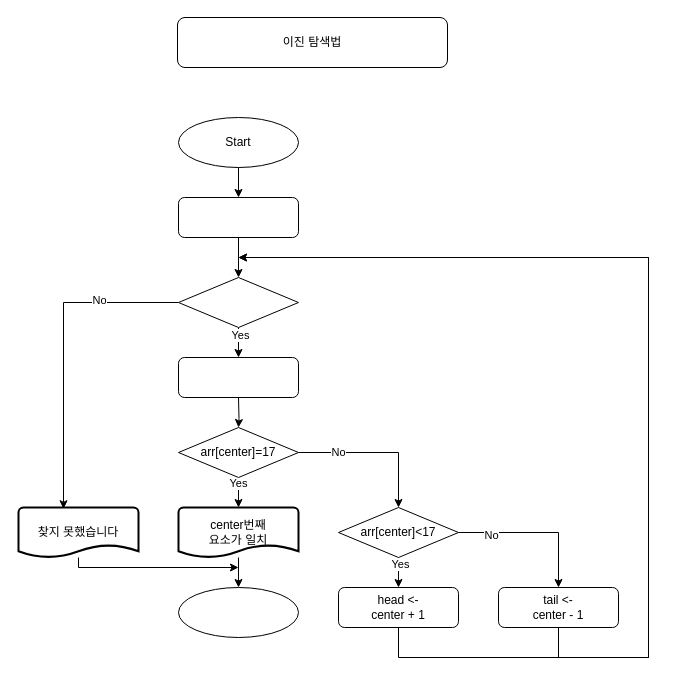
The diagram is 674 pixels wide and 683 high, and some of its shapes have lost their labels. Here are the shapes that lost their labels. From the top down, the centre of each, then its label:
At point 238,217: "head <- 0 tail <- 6".
At point 238,302: "head <= tail".
At point 238,377: "center <- (head + tail) / 2".
At point 238,612: "End".
